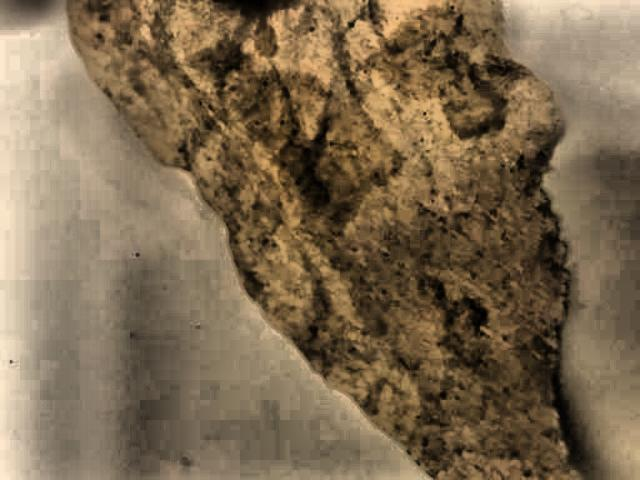Paper: (44, 0, 599, 480)
